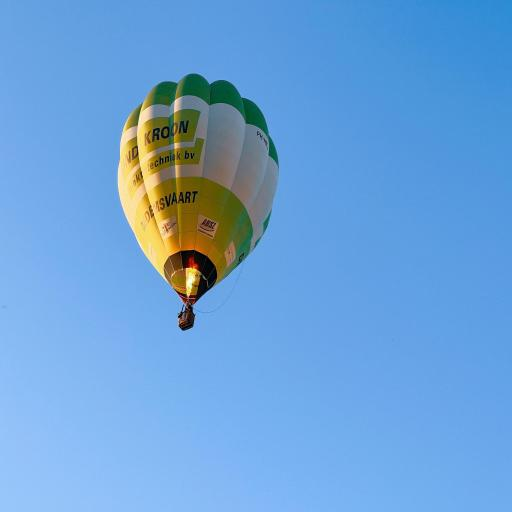hot air ballon: (117, 73, 279, 332)
